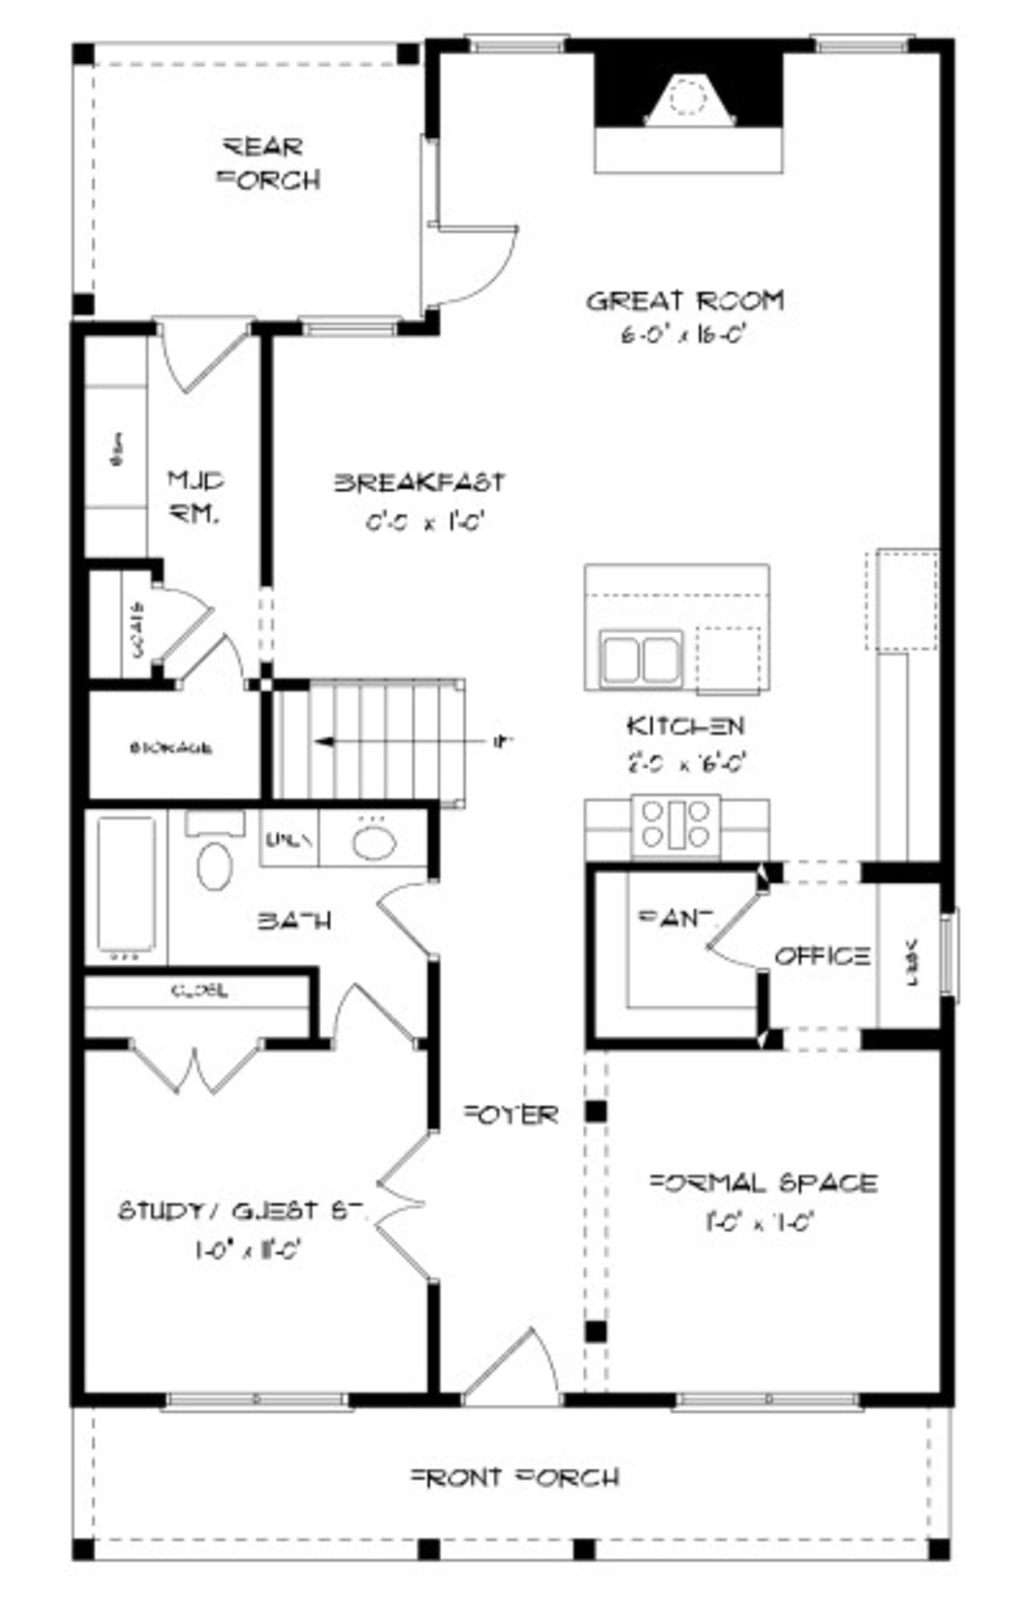door: (369, 1109, 458, 1284), (133, 309, 266, 403), (432, 209, 533, 327), (113, 1034, 271, 1104), (458, 1324, 576, 1416), (708, 866, 783, 981), (327, 985, 423, 1054), (376, 876, 443, 964), (150, 578, 216, 666), (181, 636, 257, 701)
kitchen_bar: (571, 561, 828, 746)
large_sink: (178, 806, 266, 896)
small_sink: (308, 803, 458, 869)
stairs: (271, 669, 488, 806)
tub: (91, 810, 161, 956)
twin_sink: (588, 622, 711, 696)
window: (921, 904, 981, 1011), (666, 1389, 863, 1416), (798, 26, 933, 64), (293, 306, 406, 346), (157, 1384, 346, 1406), (453, 31, 563, 64)
